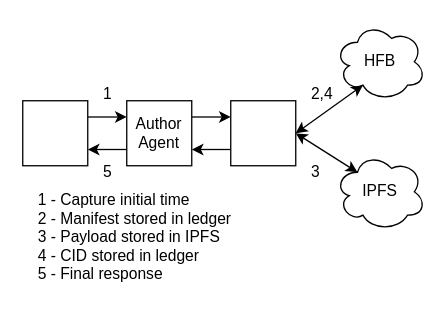
Image size: 448x319. Some labels were removed from this diagram. The centre of each missing label's shape, as x and y in pixels:
"Register Agent" goes at pixel 262 132.
"Test Script" goes at pixel 54 132.
